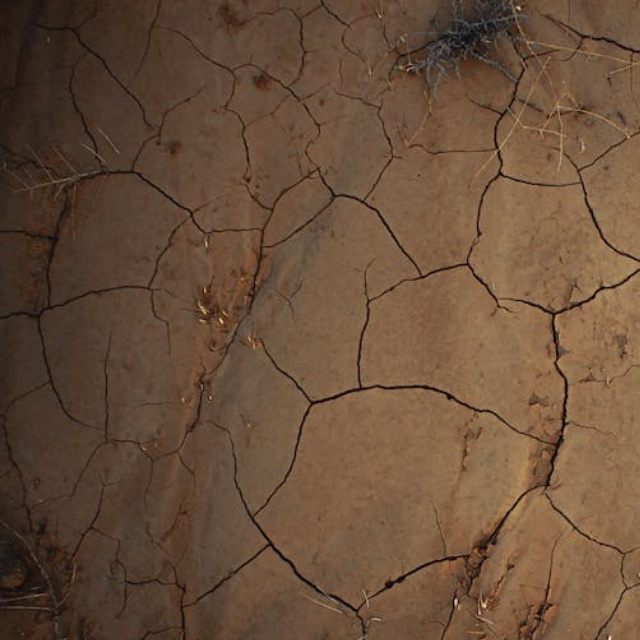细微裂纹: (224, 82, 568, 243), (21, 33, 137, 500), (202, 329, 588, 458), (188, 406, 357, 640)
